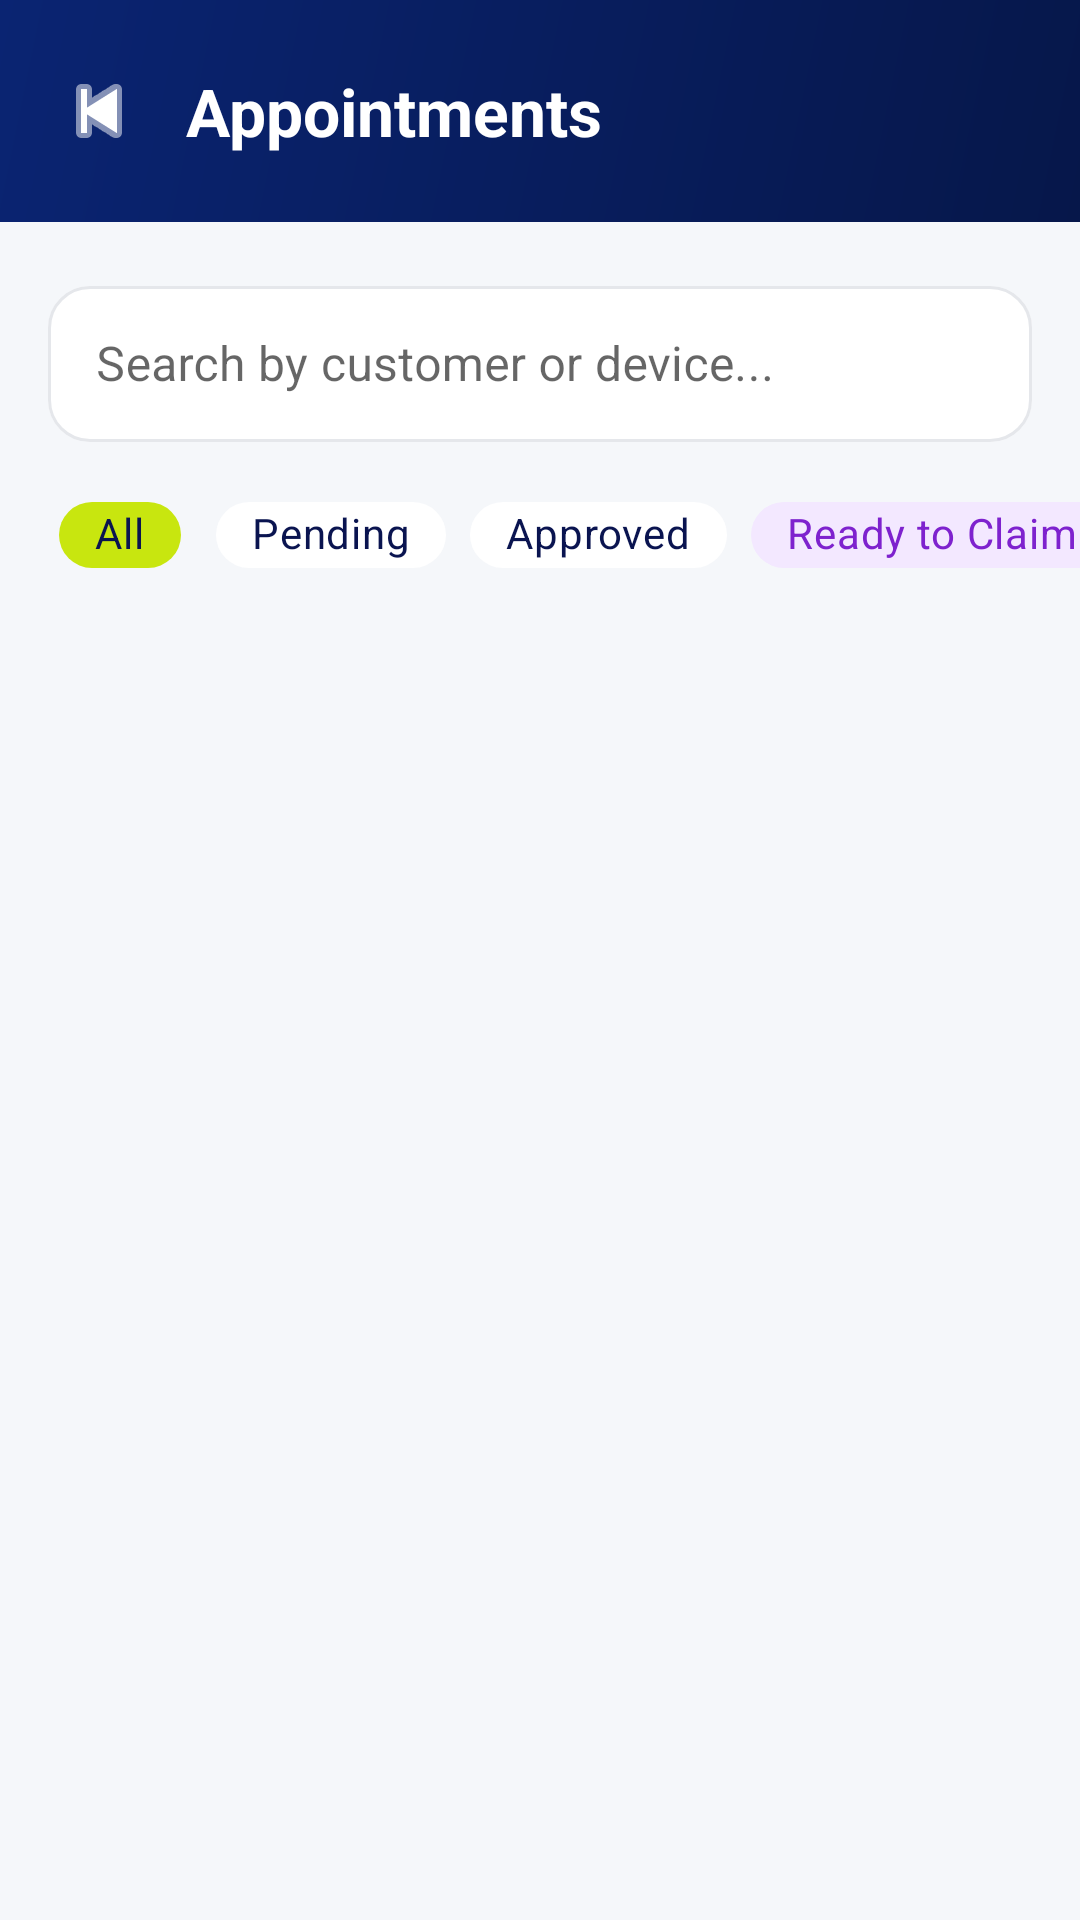

Locate icon controls on the screen. Image size 1080px x 1920px, boxes as bbox=(x1, y1, x2, y2).
Back: bbox=(76, 84, 122, 138)
